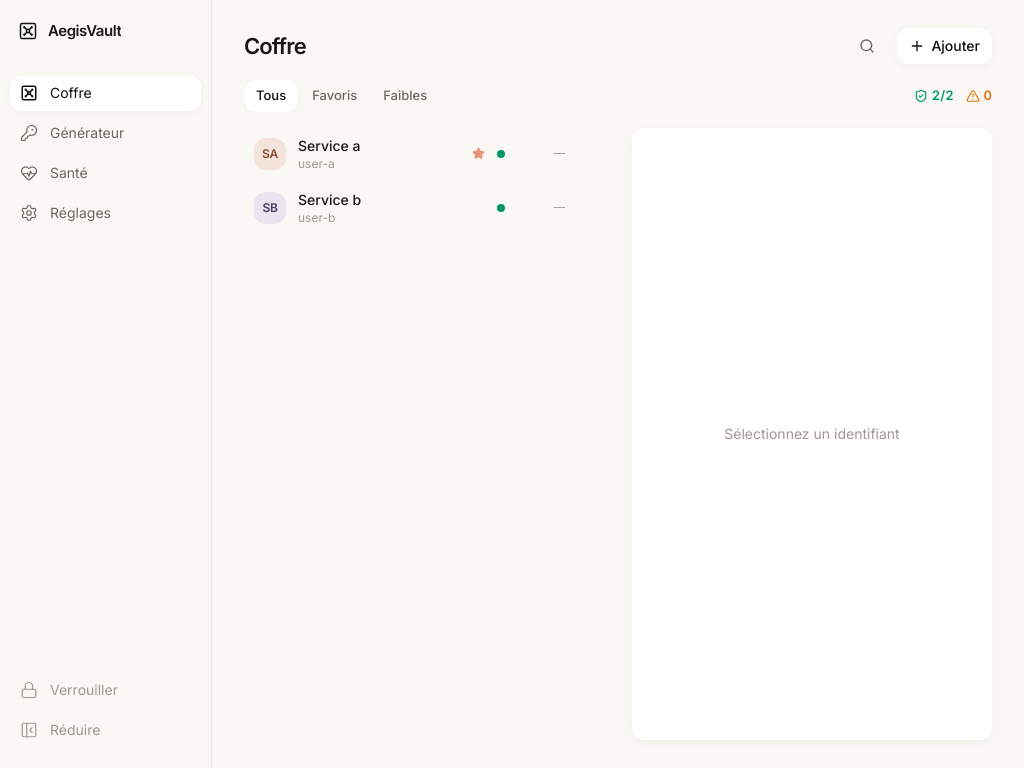
Test: MainLayout vault list › narrows the list to favorites
Click the button "Favoris": (335, 96) [300, 80, 369, 112]
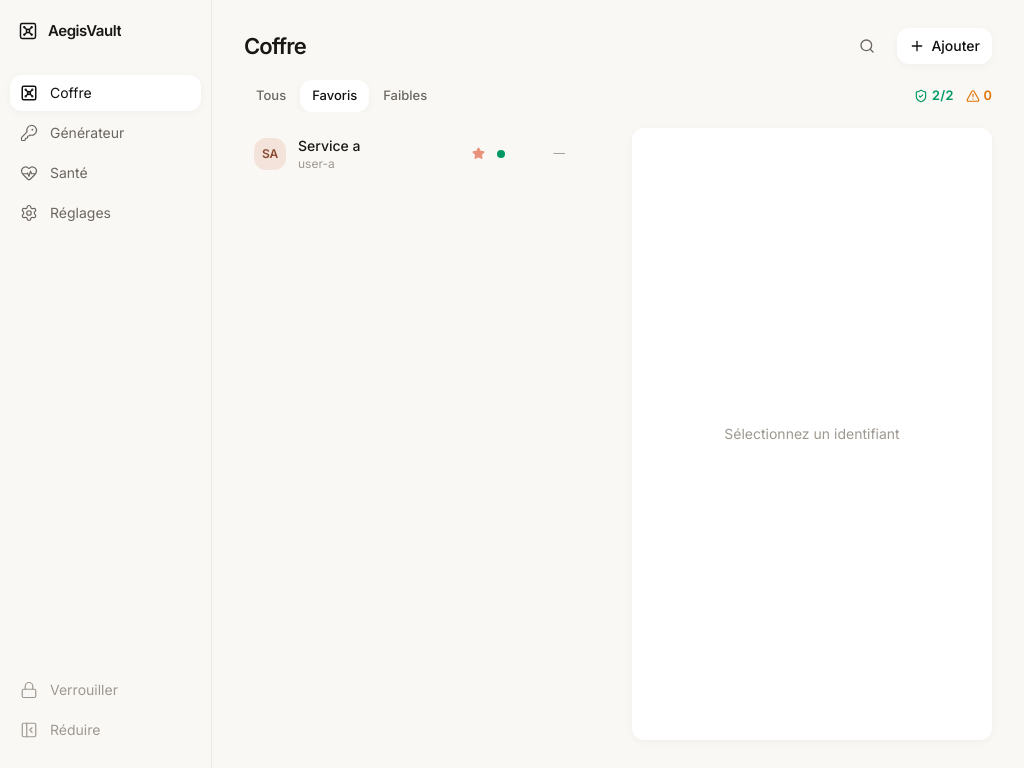
Expected: the text "Service a" is shown, [298, 136, 360, 154]
Now the text "Service b" is gone
